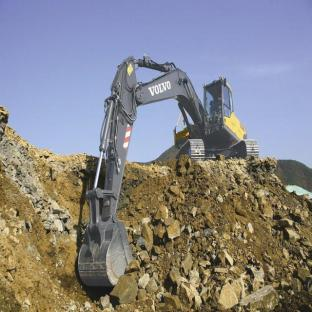ExcavationMachinery: (74, 33, 274, 285)
